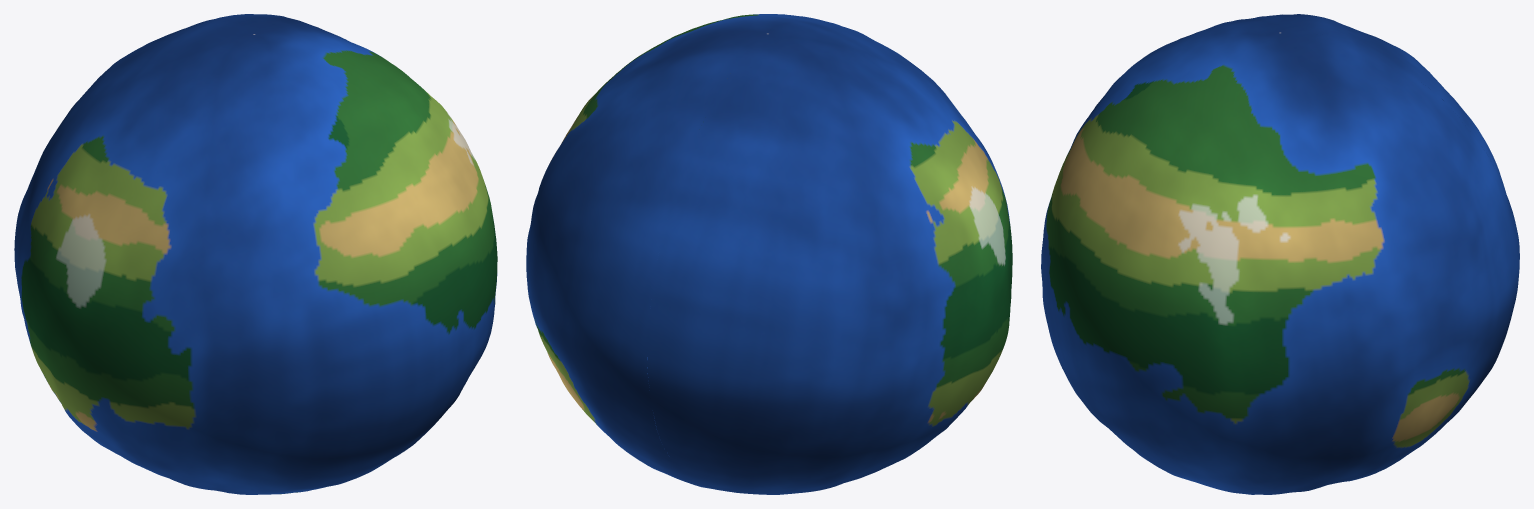
Rendered from canonical_world.obj.
3 views of the same model, side by side, from view 1: azimuth 30°, elevation 25°; view 2: azimuth 150°, elevation 25°; view 3: azimuth 270°, elevation 25° (orthographic).
Parts seen in each view (by area): view 1: Canonical_Earth; view 2: Canonical_Earth; view 3: Canonical_Earth.
Boxes of the visible parts, bbox=[...] form: Canonical_Earth: bbox=[14, 14, 497, 494]; Canonical_Earth: bbox=[526, 14, 1012, 494]; Canonical_Earth: bbox=[1041, 14, 1519, 494].
Bounding box in the file's own units: 2.03 × 1.98 × 1.98.
Materials: 1 (1 with a texture image).
